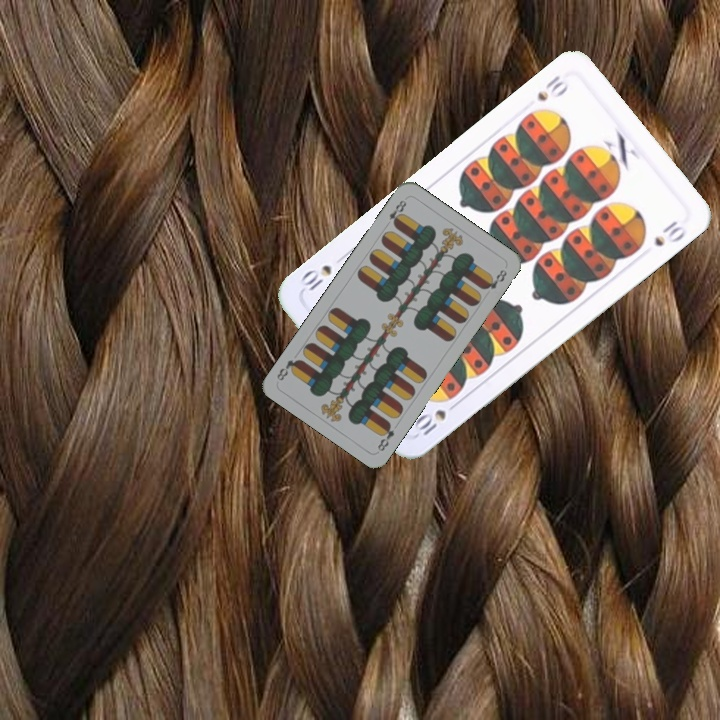E8: (373, 418, 397, 454), (385, 196, 409, 229)
S10: (409, 397, 462, 439), (533, 71, 572, 104)
